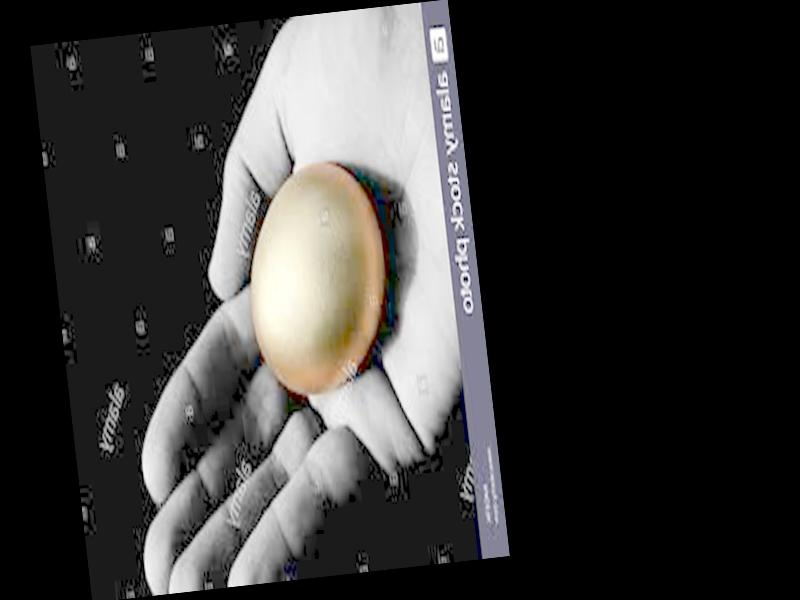Eggs: (237, 160, 395, 401)
